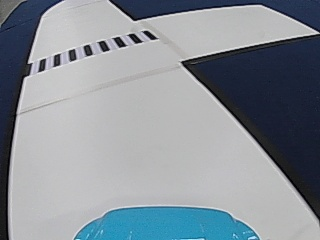CrossWalk: (32, 32, 153, 68)
